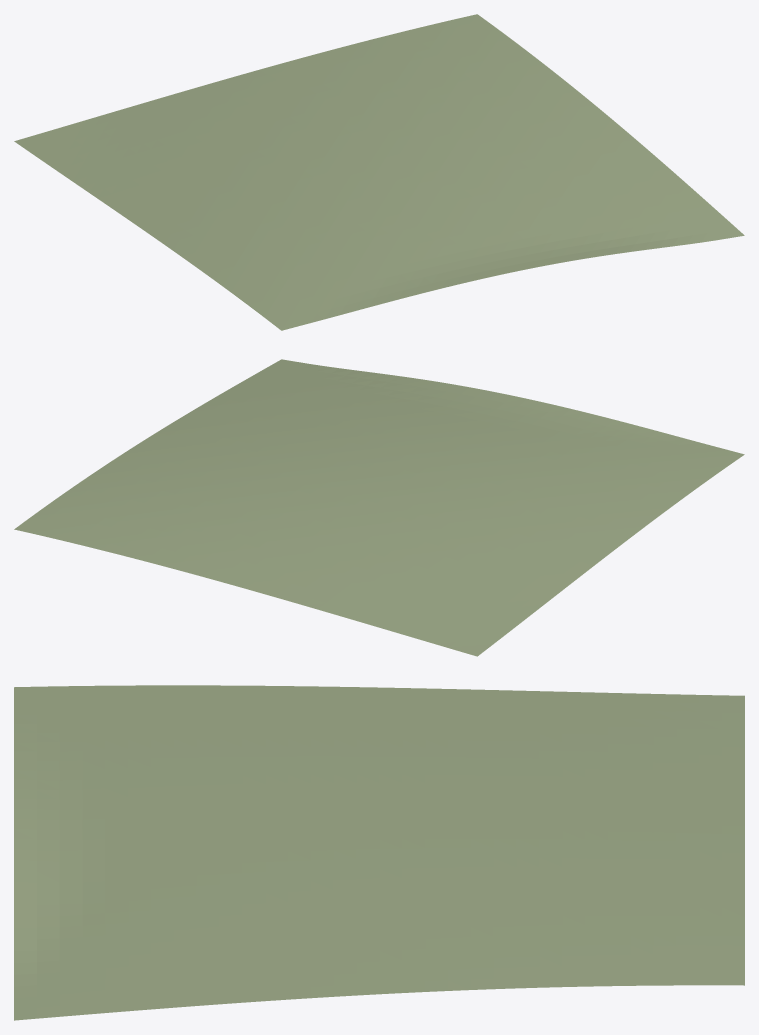
Rendered from alpine-2-1.glb.
The picture shows the model from 3 angles, top to bottom: view 1: azimuth 30°, elevation 25°; view 2: azimuth 150°, elevation 25°; view 3: azimuth 270°, elevation 25°; orthographic projection. The views are drawn at different scales.
Visible parts, largest first — view 1: alpine-2-1; view 2: alpine-2-1; view 3: alpine-2-1.
Boxes of the visible parts, box(x1,y1,x2,y2) form: alpine-2-1: box(14, 14, 744, 330); alpine-2-1: box(14, 359, 744, 656); alpine-2-1: box(14, 685, 744, 1020).
Bounding box in the file's own units: 256 × 14.56 × 256.
